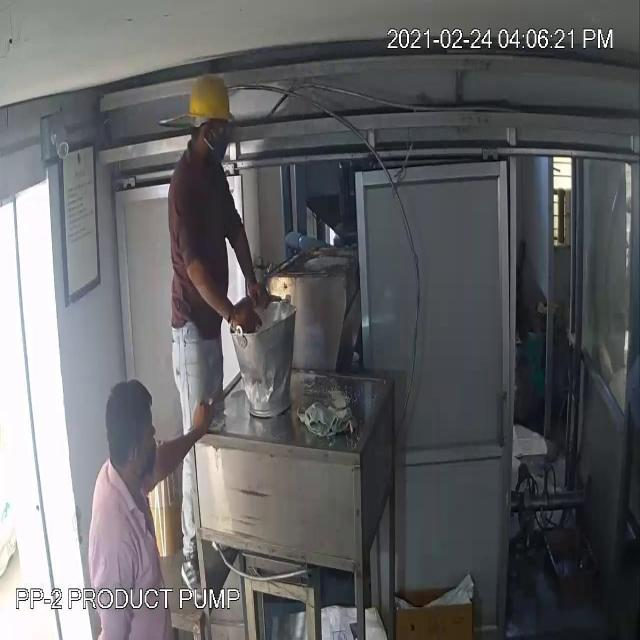helmet: (182, 68, 238, 134)
no-helmet: (100, 376, 160, 444)
